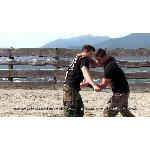Pisau: (92, 82, 116, 98)
